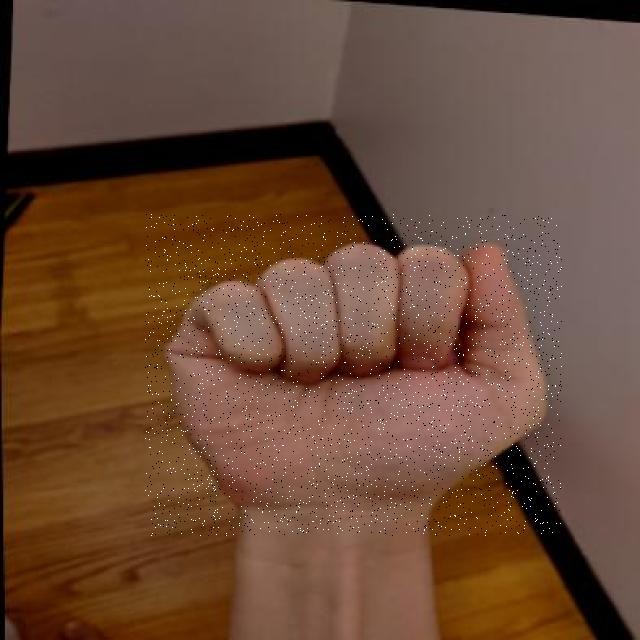A: (145, 214, 562, 536)
